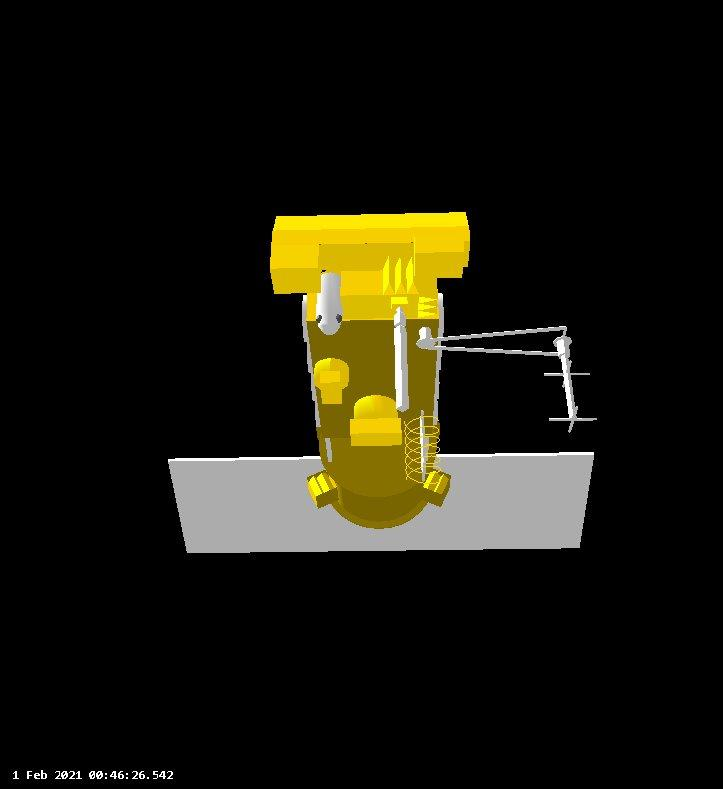antenna: (537, 334, 602, 436), (382, 303, 420, 414), (400, 410, 444, 490)
body: (267, 212, 459, 530)
solar: (160, 449, 609, 555)
